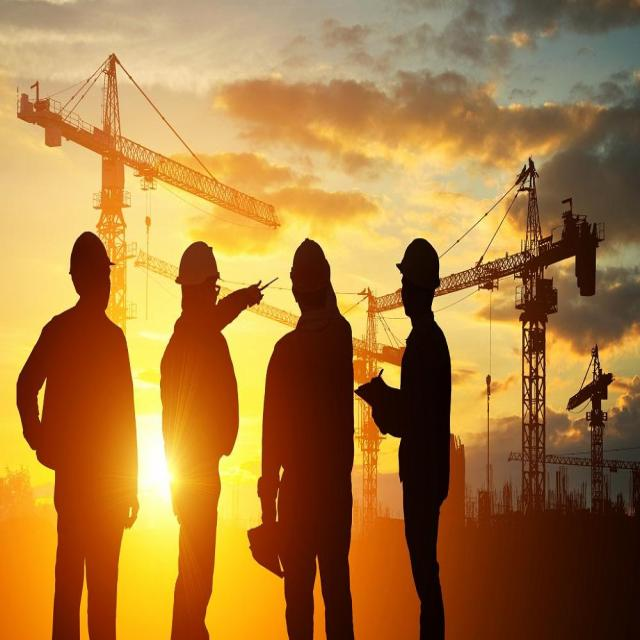Reflective-Jacket: (25, 305, 146, 513), (250, 309, 368, 522)
Safety-Helmet: (168, 236, 225, 295), (392, 228, 446, 280)
